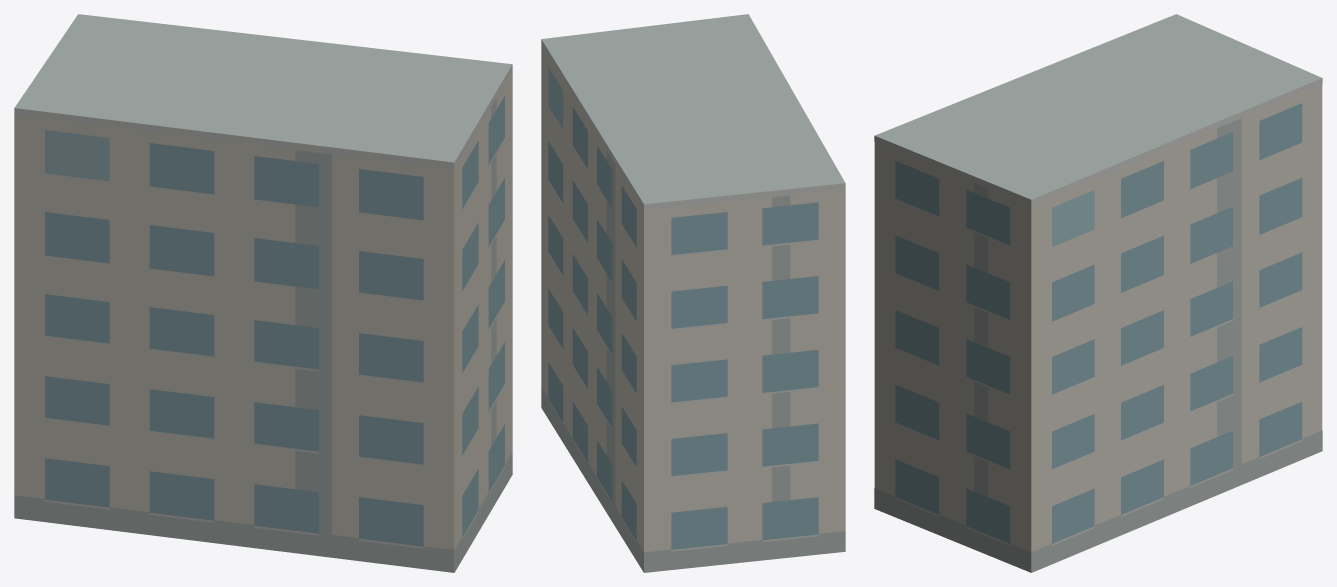
Rendered from survey-upis-32951038.glb.
3 views of the same model, side by side, from view 1: azimuth 30°, elevation 25°; view 2: azimuth 150°, elevation 25°; view 3: azimuth 270°, elevation 25° (orthographic). The views are drawn at different scales.
Visible parts, largest first — view 1: survey-upis-32951038.tmp; view 2: survey-upis-32951038.tmp; view 3: survey-upis-32951038.tmp.
Part boxes in pixels (box(x1,y1,x2,y2)): survey-upis-32951038.tmp: box(14, 14, 512, 572); survey-upis-32951038.tmp: box(541, 14, 845, 572); survey-upis-32951038.tmp: box(874, 14, 1322, 572).
Bounding box in the file's own units: 15.16 × 14.2 × 15.46.
